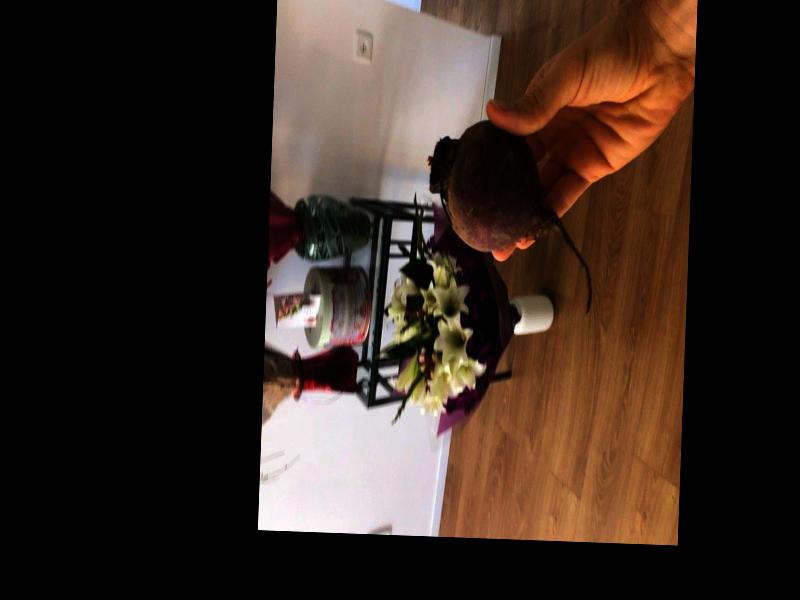Beet: (423, 119, 597, 317)
